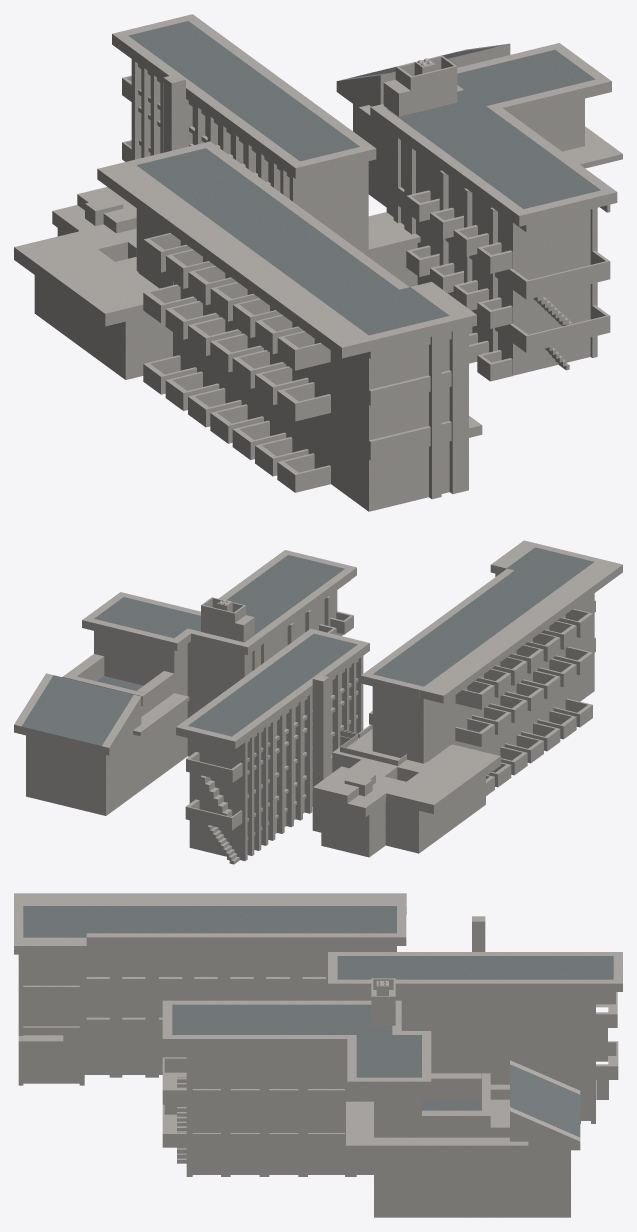
Rendered from ryo.fbx.
3 renders of one model, top to bottom at view 1: azimuth 30°, elevation 25°; view 2: azimuth 150°, elevation 25°; view 3: azimuth 270°, elevation 25°, orthographic. The views are drawn at different scales.
Visible parts, largest first — view 1: Plane.001; view 2: Plane.001; view 3: Plane.001.
Part boxes in pixels (<box>): Plane.001: <box>14,14,622,511</box>; Plane.001: <box>14,540,622,864</box>; Plane.001: <box>14,893,622,1217</box>.
Bounding box in the file's own units: 511 × 207 × 642.
